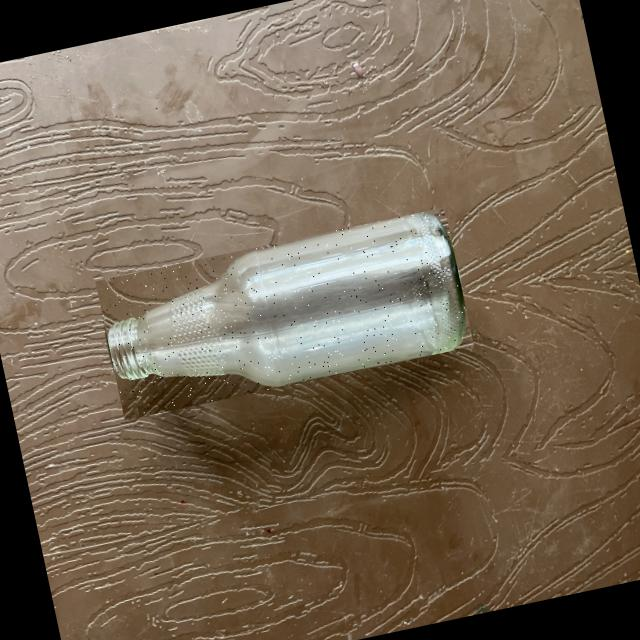Glass_Bottle: (108, 212, 464, 385)
